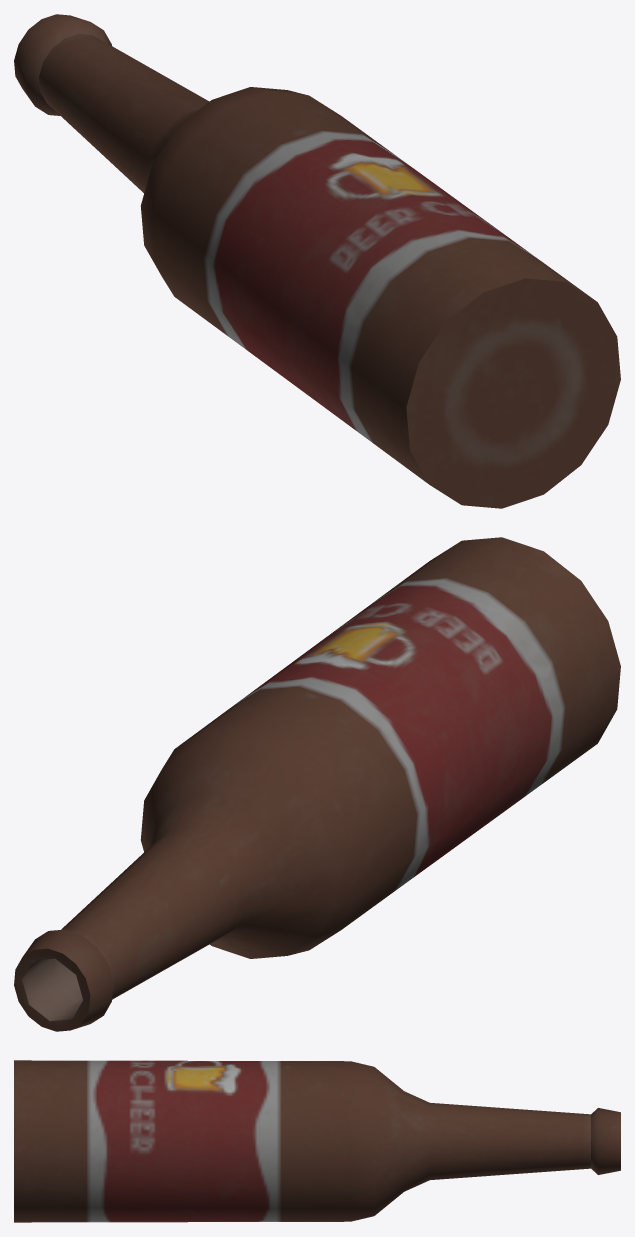
File: SM_Small_Trash_Bottle_01.FBX
3 renders of one model, top to bottom at view 1: azimuth 30°, elevation 25°; view 2: azimuth 150°, elevation 25°; view 3: azimuth 270°, elevation 25°, orthographic. The views are drawn at different scales.
Parts seen in each view (by area): view 1: SM_Small_Trash_Bottle_01_LOD0; view 2: SM_Small_Trash_Bottle_01_LOD0; view 3: SM_Small_Trash_Bottle_01_LOD0.
Boxes of the visible parts, left/top/right/bottom form: SM_Small_Trash_Bottle_01_LOD0: left=14, top=14, right=620, bottom=508; SM_Small_Trash_Bottle_01_LOD0: left=14, top=537, right=620, bottom=1031; SM_Small_Trash_Bottle_01_LOD0: left=14, top=1060, right=620, bottom=1222.
Size of what is drawn, in the model's own units: 5.56 by 20.71 by 5.56.
